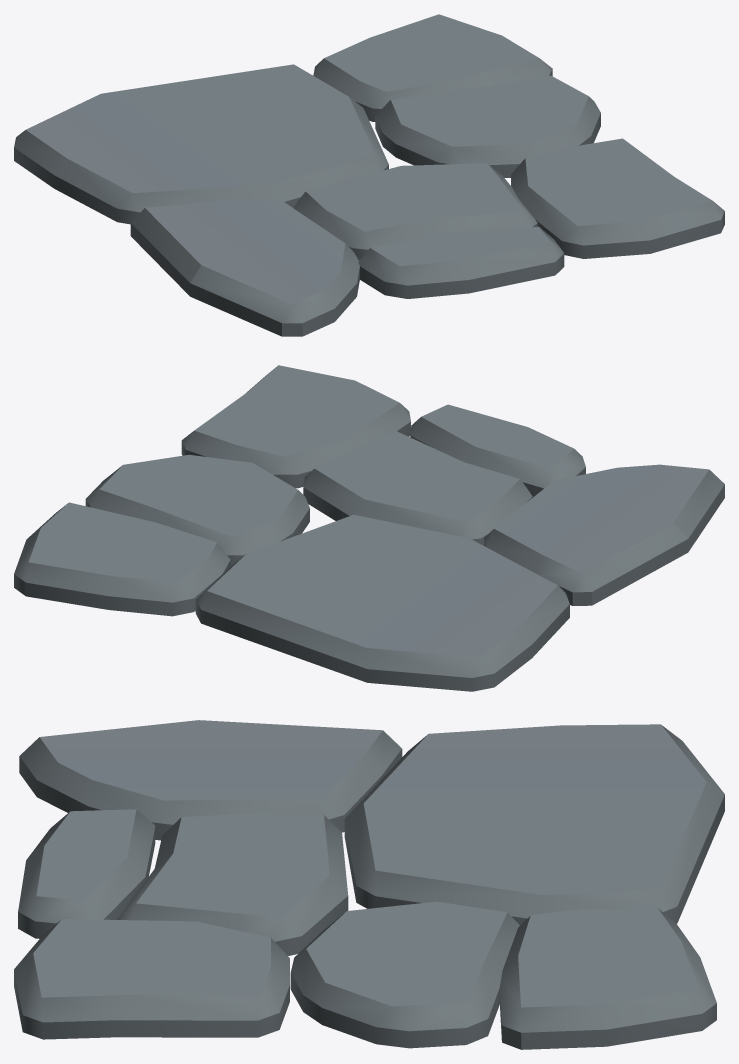
File: cobblestone-tile.glb
3 renders of one model, top to bottom at view 1: azimuth 30°, elevation 25°; view 2: azimuth 150°, elevation 25°; view 3: azimuth 270°, elevation 25°, orthographic. The views are drawn at different scales.
Parts seen in each view (by area): view 1: path_A; view 2: path_A; view 3: path_A.
Part boxes in pixels (x1,y1,x2,y2): path_A: (14, 14, 724, 336); path_A: (14, 365, 724, 691); path_A: (14, 720, 724, 1049).
Bounding box in the file's own units: 1.9 × 0.1 × 1.88.
1 material, 1 textured.
